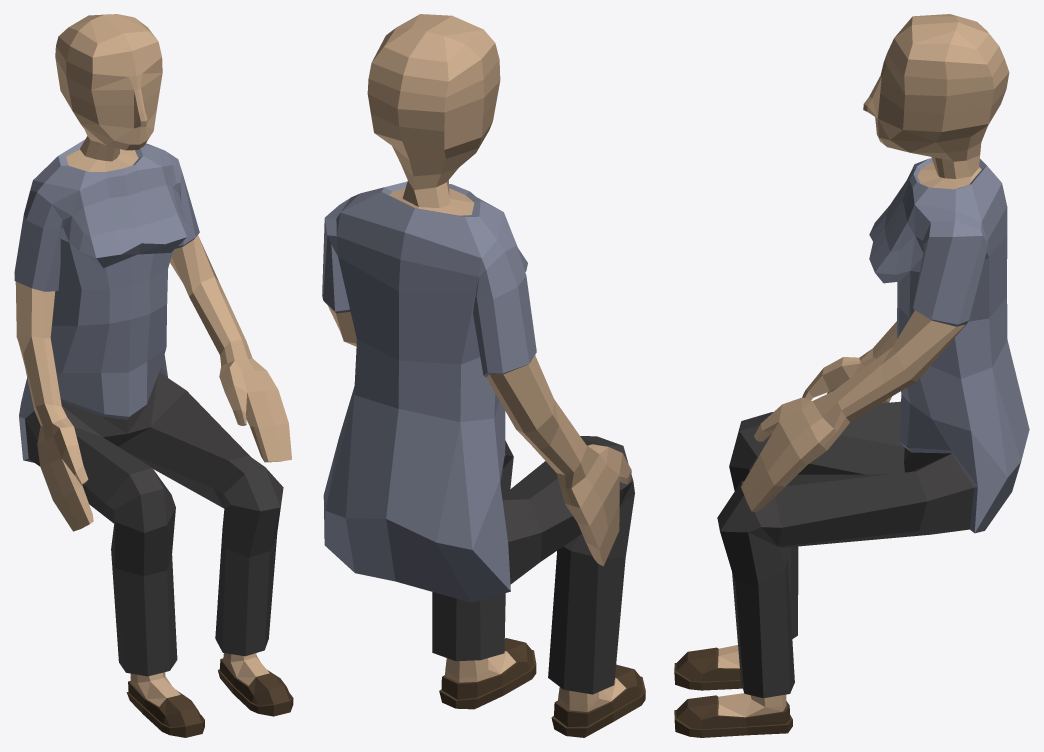
File: Female_Sitting.glb
The picture shows the model from 3 angles, left to right: view 1: azimuth 30°, elevation 25°; view 2: azimuth 150°, elevation 25°; view 3: azimuth 270°, elevation 25°; orthographic projection. The views are drawn at different scales.
Parts seen in each view (by area): view 1: Female_Sitting; view 2: Female_Sitting; view 3: Female_Sitting.
Part boxes in pixels (x1,y1,x2,y2): Female_Sitting: (14,14,293,737); Female_Sitting: (322,14,645,737); Female_Sitting: (674,14,1029,737).
Size of the model in its own units: 1.02 by 2.97 by 1.41.
